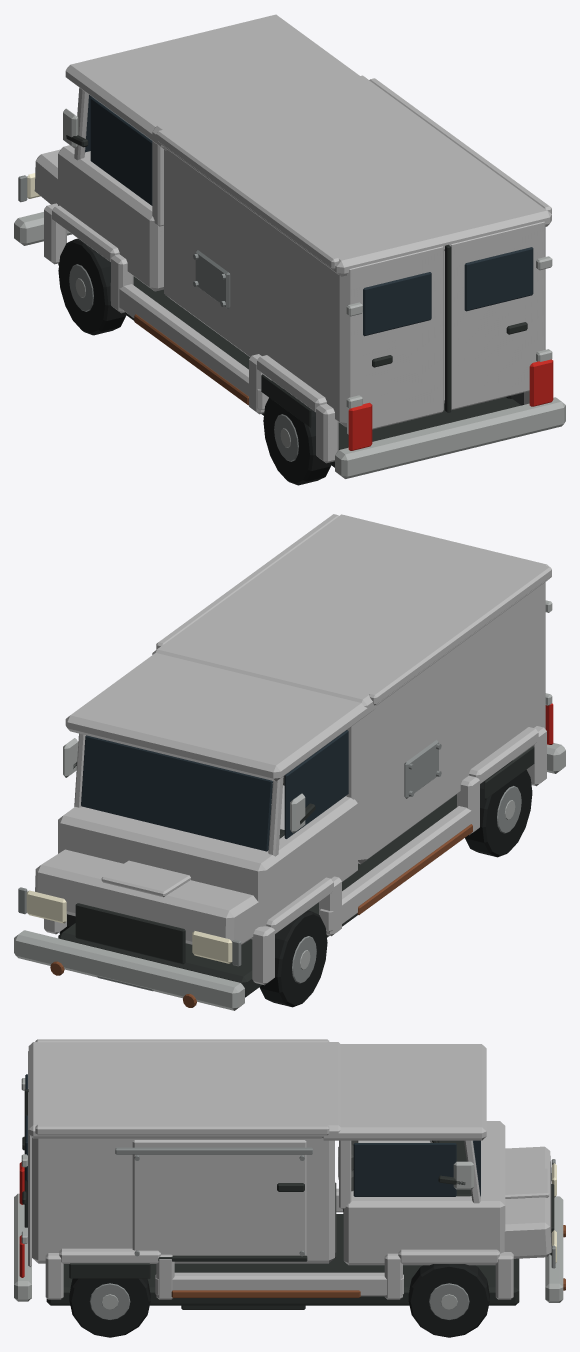
The model's file is van.glb.
The picture shows the model from 3 angles, top to bottom: view 1: azimuth 30°, elevation 25°; view 2: azimuth 150°, elevation 25°; view 3: azimuth 270°, elevation 25°; orthographic projection. The views are drawn at different scales.
Parts seen in each view (by area): view 1: van, Wheel_FL, Wheel_RL; view 2: van, Wheel_FL, Wheel_RL; view 3: van, Wheel_FR, Wheel_RR.
Boxes of the visible parts, x1,y1,x2,y2 form: van: (14,14,565,478); Wheel_FL: (58,238,126,335); Wheel_RL: (263,388,331,485); van: (14,514,565,1010); Wheel_FL: (259,910,327,1007); Wheel_RL: (465,760,532,857); van: (14,1039,565,1309); Wheel_FR: (408,1264,489,1337); Wheel_RR: (69,1278,150,1337).
Bounding box in the file's own units: 1.97 × 2.06 × 4.88.
